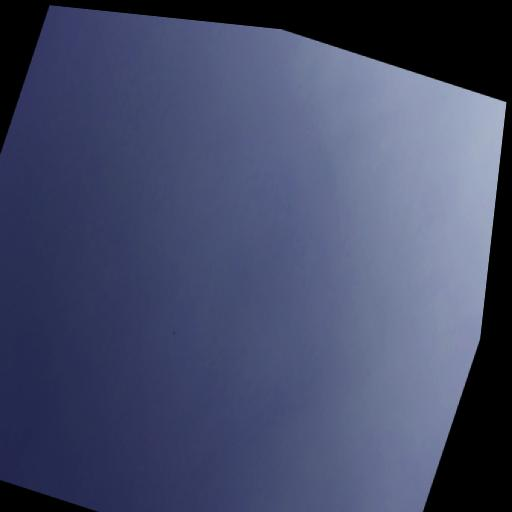drones: (169, 328, 177, 337)
